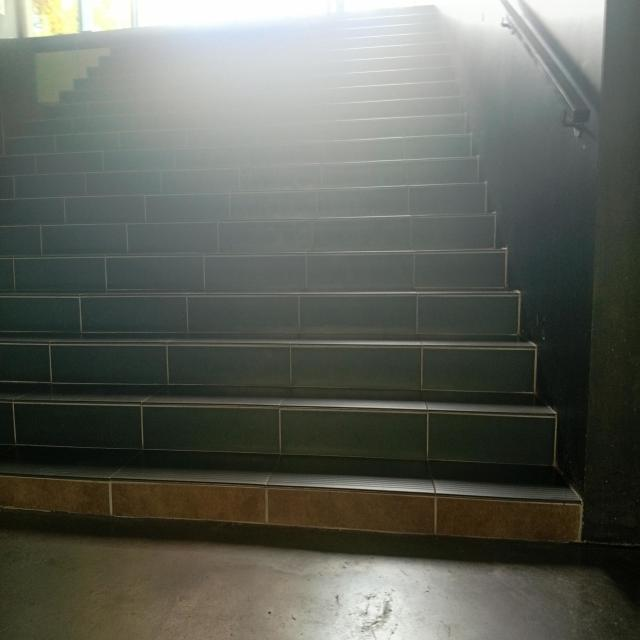Stairs: (12, 107, 592, 589)
